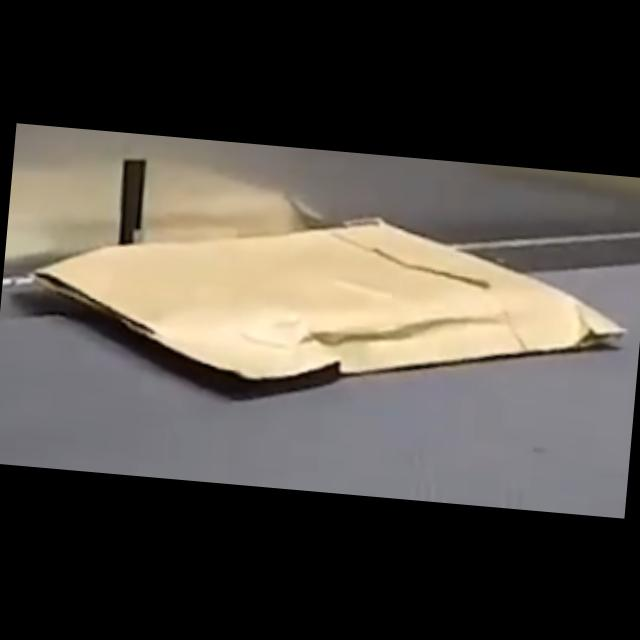mailer: (32, 192, 630, 410)
